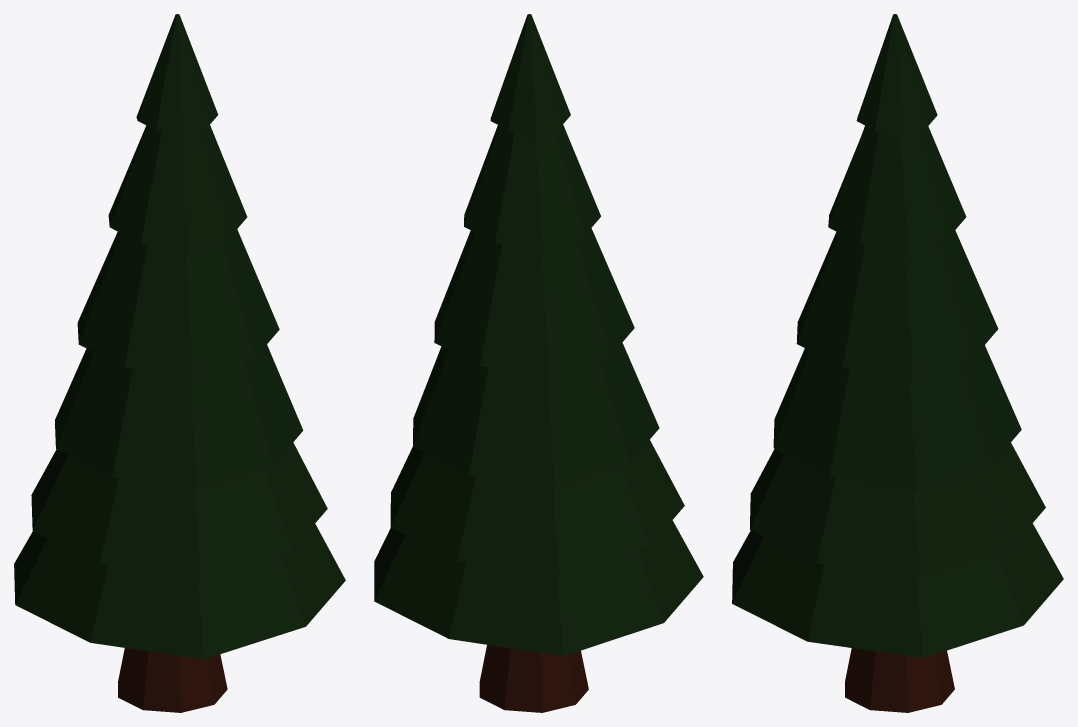
The model's file is tree.obj.
The picture shows the model from 3 angles, left to right: view 1: azimuth 30°, elevation 25°; view 2: azimuth 150°, elevation 25°; view 3: azimuth 270°, elevation 25°; orthographic projection.
Parts seen in each view (by area): view 1: Cylinder; view 2: Cylinder; view 3: Cylinder.
Boxes of the visible parts, box(x1,y1,x2,y2) form: Cylinder: box(14, 14, 345, 712); Cylinder: box(374, 14, 703, 712); Cylinder: box(732, 14, 1063, 712).
Bounding box in the file's own units: 2.31 × 5.12 × 2.28.
